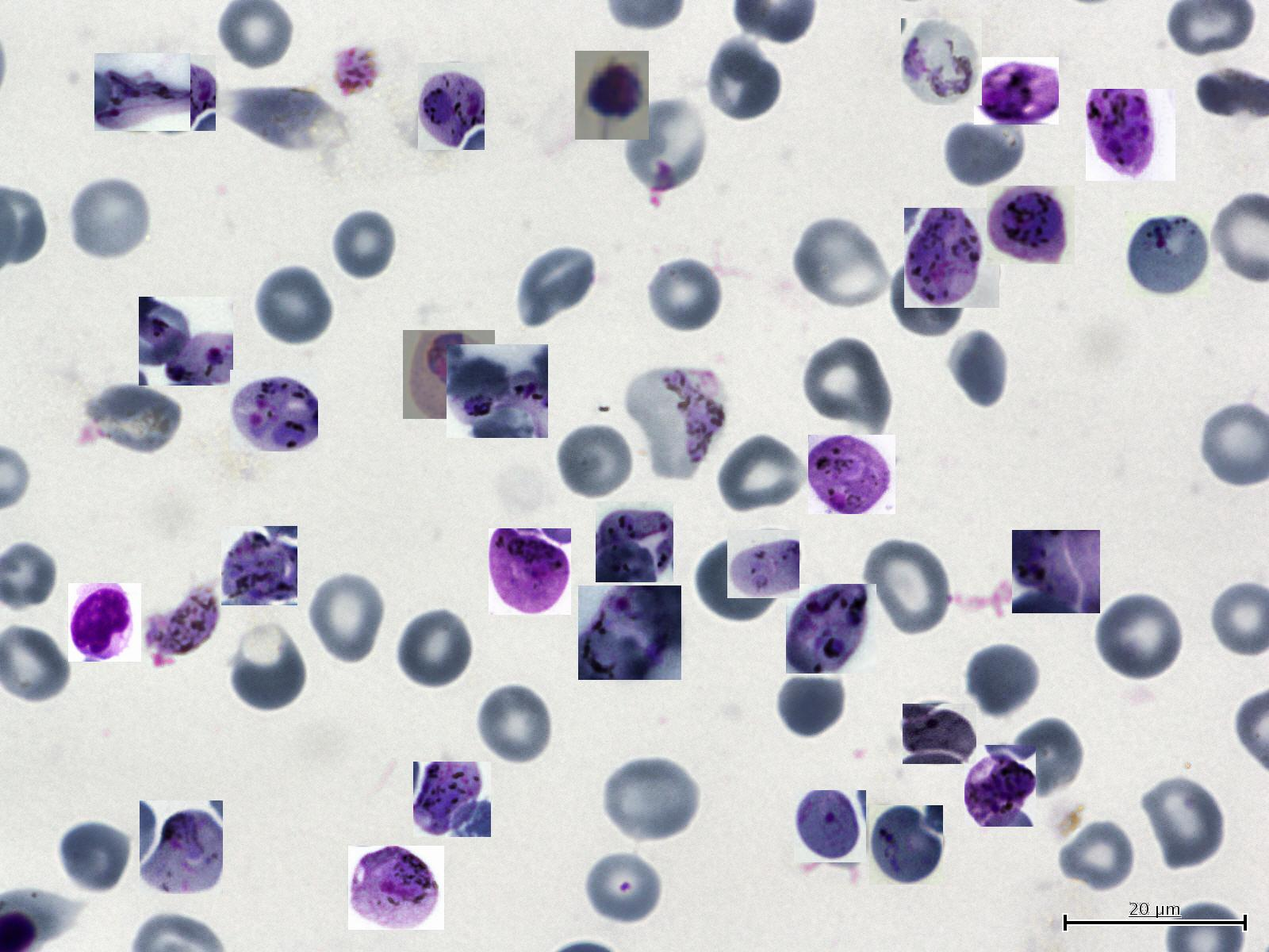Infected: (626, 365, 723, 479), (578, 585, 681, 680), (904, 208, 999, 308), (447, 344, 548, 438), (139, 297, 233, 386), (1086, 90, 1175, 182), (403, 330, 495, 419), (786, 584, 876, 674), (348, 846, 444, 930), (140, 800, 223, 894), (94, 53, 190, 131), (1125, 211, 1210, 298), (1012, 530, 1100, 613), (489, 529, 571, 616), (230, 370, 318, 451), (901, 19, 982, 106), (808, 435, 895, 514), (987, 186, 1075, 264), (575, 51, 649, 140), (596, 502, 673, 583), (221, 526, 297, 605), (869, 805, 943, 885), (964, 745, 1036, 827), (413, 762, 491, 837), (418, 63, 485, 150), (974, 57, 1059, 125), (68, 583, 141, 662), (145, 584, 219, 658), (794, 790, 866, 862), (151, 55, 216, 131), (727, 530, 799, 598), (903, 704, 976, 765)
Uninfected: (861, 539, 954, 638), (795, 218, 892, 311), (623, 96, 712, 197), (800, 336, 893, 432), (1093, 589, 1186, 683), (1139, 774, 1227, 872), (225, 623, 312, 715), (606, 758, 700, 842), (305, 570, 387, 666), (716, 432, 807, 516), (693, 542, 783, 624), (68, 175, 153, 261), (252, 263, 335, 349), (515, 243, 598, 327), (703, 38, 782, 125), (474, 682, 555, 766), (86, 386, 183, 456), (230, 87, 328, 156), (887, 256, 967, 340), (395, 608, 475, 690), (582, 848, 665, 927), (1004, 712, 1083, 794), (555, 421, 635, 501), (941, 115, 1026, 190), (1057, 817, 1137, 894), (644, 255, 723, 332), (963, 640, 1040, 719), (945, 326, 1014, 413), (325, 205, 400, 281), (55, 819, 132, 893), (772, 669, 847, 742)
